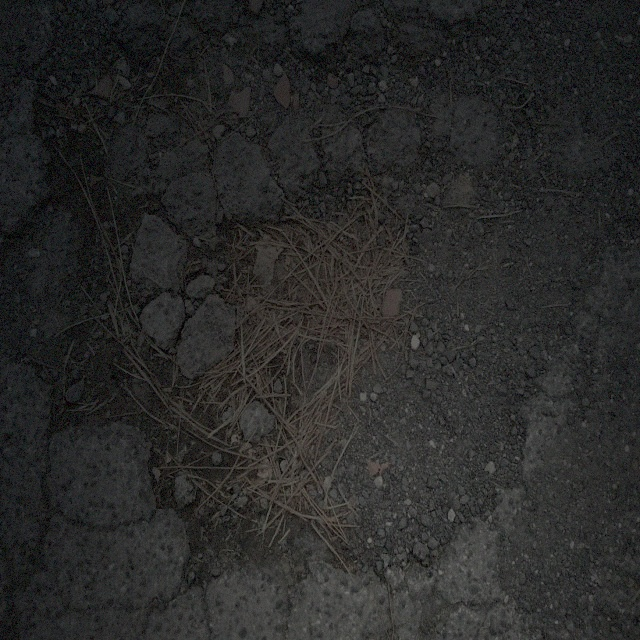pothole: (38, 88, 594, 586)
